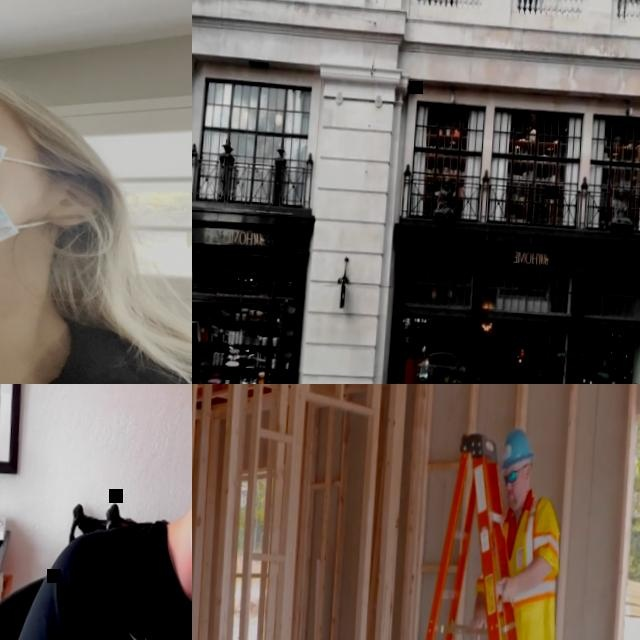Hardhat: (501, 428, 535, 471)
Mask: (0, 105, 84, 307)
NO-Hardhat: (0, 61, 69, 116)
NO-Mask: (508, 481, 528, 510)
NO-Safety Vest: (49, 517, 192, 640), (0, 306, 192, 384)
Person: (0, 51, 192, 384), (0, 384, 192, 640), (475, 428, 579, 640)
Safety Vest: (476, 489, 564, 614)
